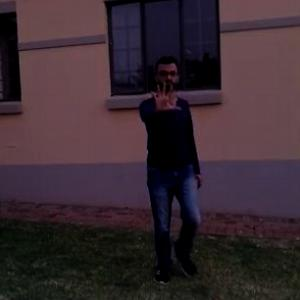follow_hand: (144, 74, 184, 116)
